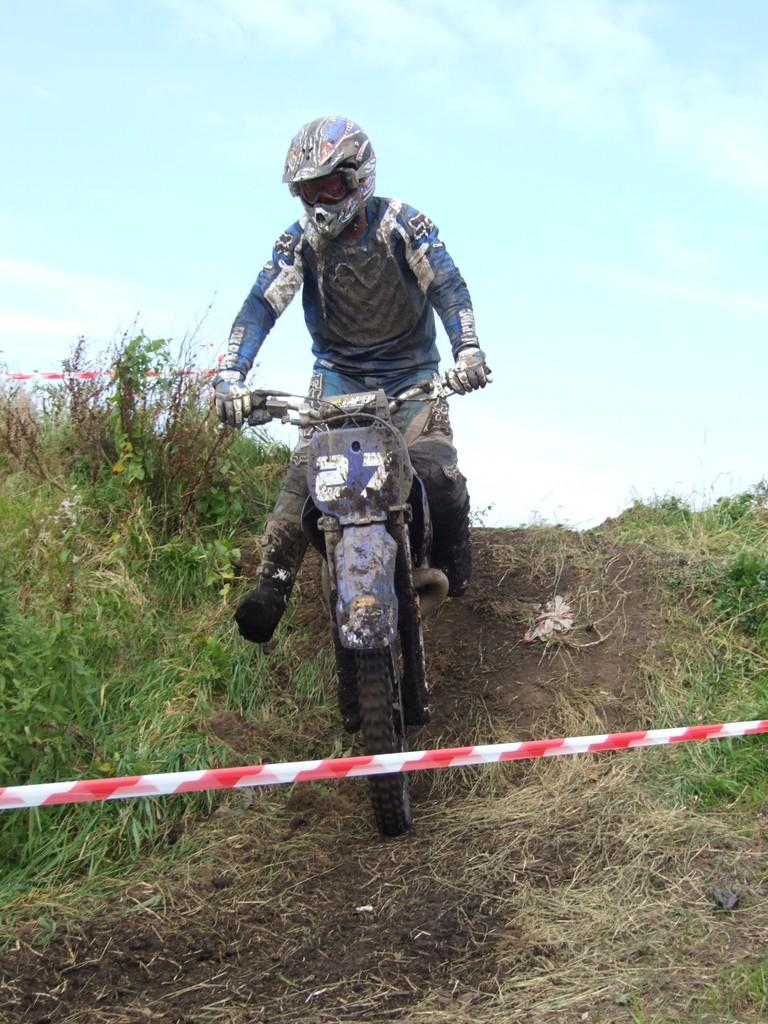helmet: (281, 115, 377, 240)
